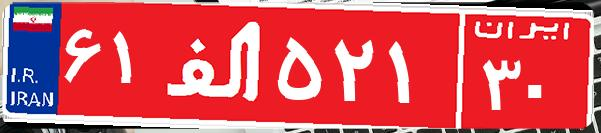0: (525, 38, 570, 115)
1: (385, 28, 445, 110), (110, 28, 158, 105)
2: (330, 28, 385, 110)
3: (475, 38, 525, 113)
5: (273, 28, 330, 110)
6: (57, 26, 110, 107)
الف: (158, 15, 273, 115)
